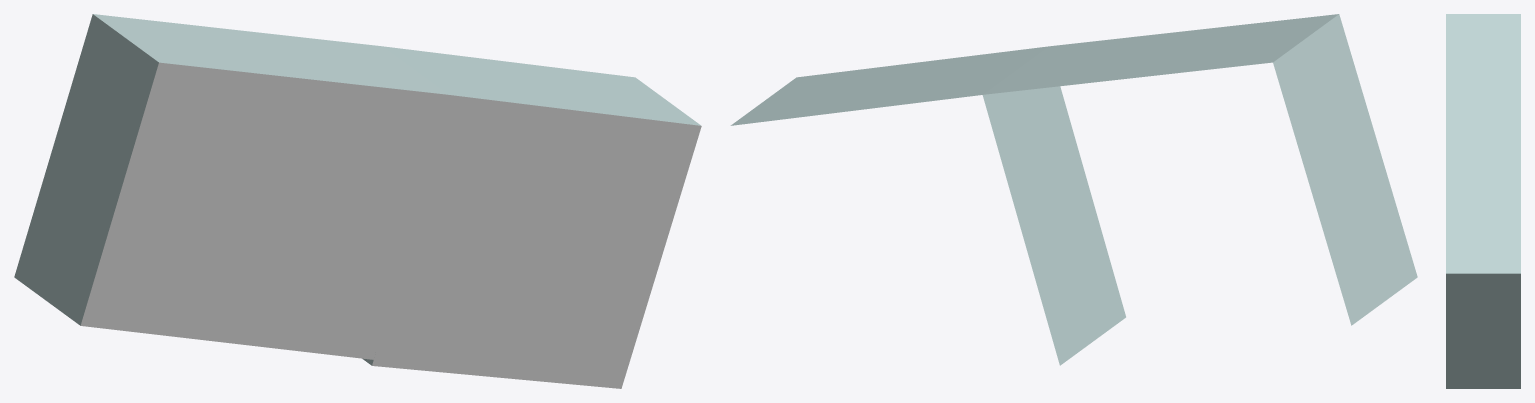
The picture shows the model from 3 angles, left to right: view 1: azimuth 30°, elevation 25°; view 2: azimuth 150°, elevation 25°; view 3: azimuth 270°, elevation 25°; orthographic projection. The views are drawn at different scales.
Parts seen in each view (by area): view 1: 0_3_2_1_0_1_0_0_0; view 2: 0_3_2_1_0_1_0_0_0; view 3: 0_3_2_1_0_1_0_0_0.
Part boxes in pixels (x1,y1,x2,y2): 0_3_2_1_0_1_0_0_0: (14,14,701,388); 0_3_2_1_0_1_0_0_0: (730,14,1417,365); 0_3_2_1_0_1_0_0_0: (1446,14,1520,388).
Size of the model in its own units: 16.22 by 10.96 by 3.
